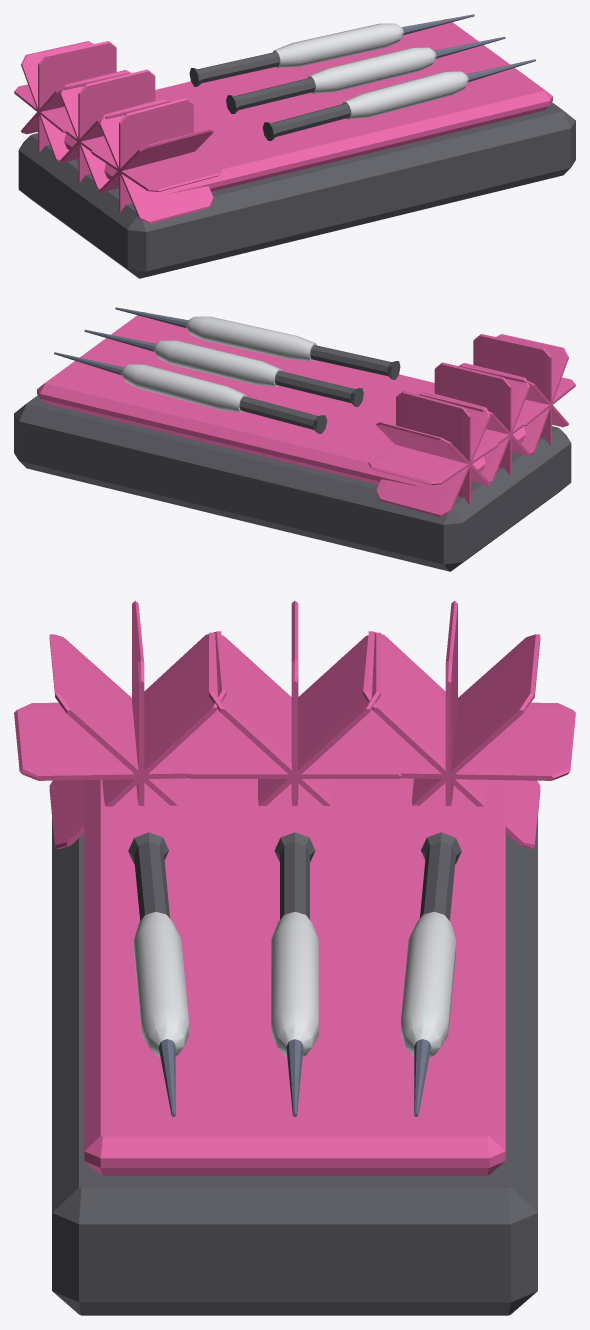
The model's file is bowling-alley-and-pool-hall-darts-set-c1bf166d__33863.glb.
The picture shows the model from 3 angles, top to bottom: view 1: azimuth 30°, elevation 25°; view 2: azimuth 150°, elevation 25°; view 3: azimuth 270°, elevation 25°; orthographic projection. The views are drawn at different scales.
Parts seen in each view (by area): view 1: darts-set; view 2: darts-set; view 3: darts-set.
Boxes of the visible parts, x1,y1,x2,y2 form: darts-set: (14, 14, 575, 278); darts-set: (14, 307, 575, 571); darts-set: (14, 600, 575, 1315).
Size of the model in its own units: 0.19 by 0.0625 by 0.1041.
